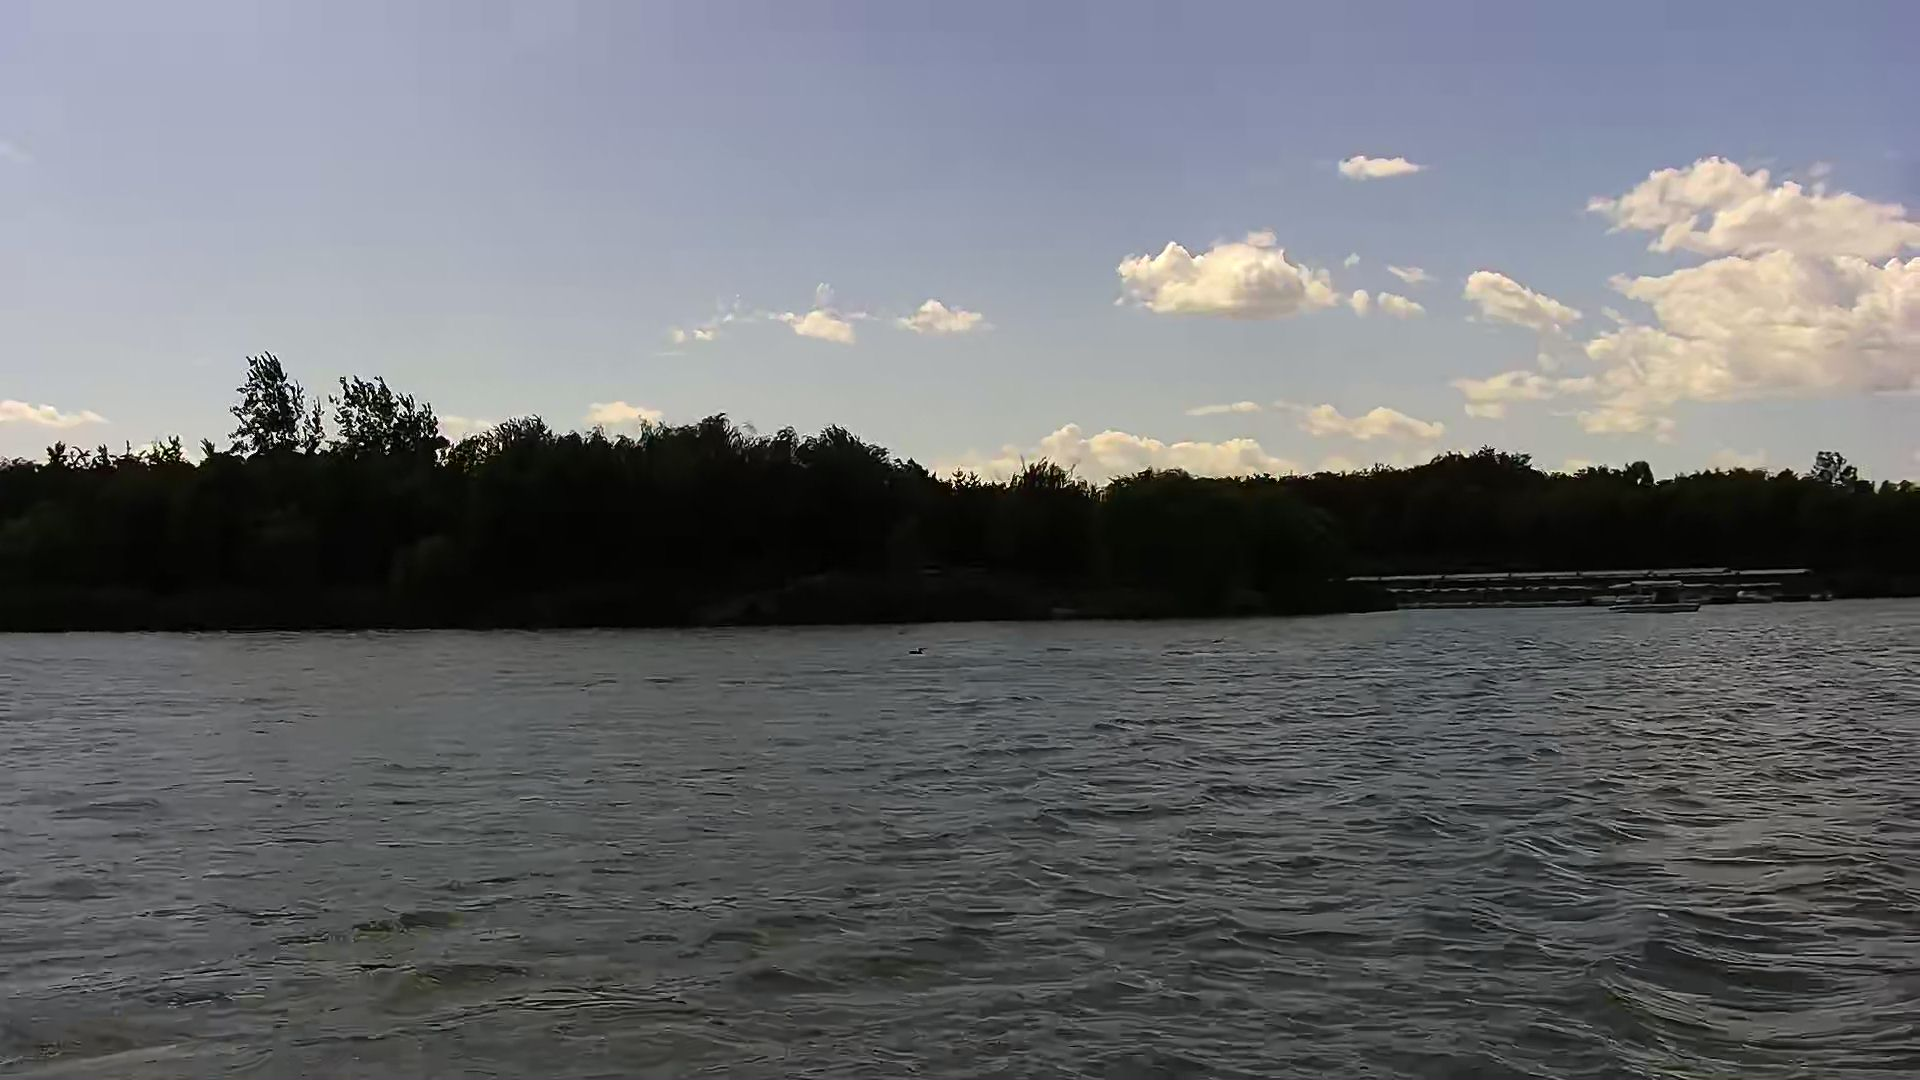boat: (1602, 576, 1712, 617)
harbor: (1336, 568, 1799, 611)
